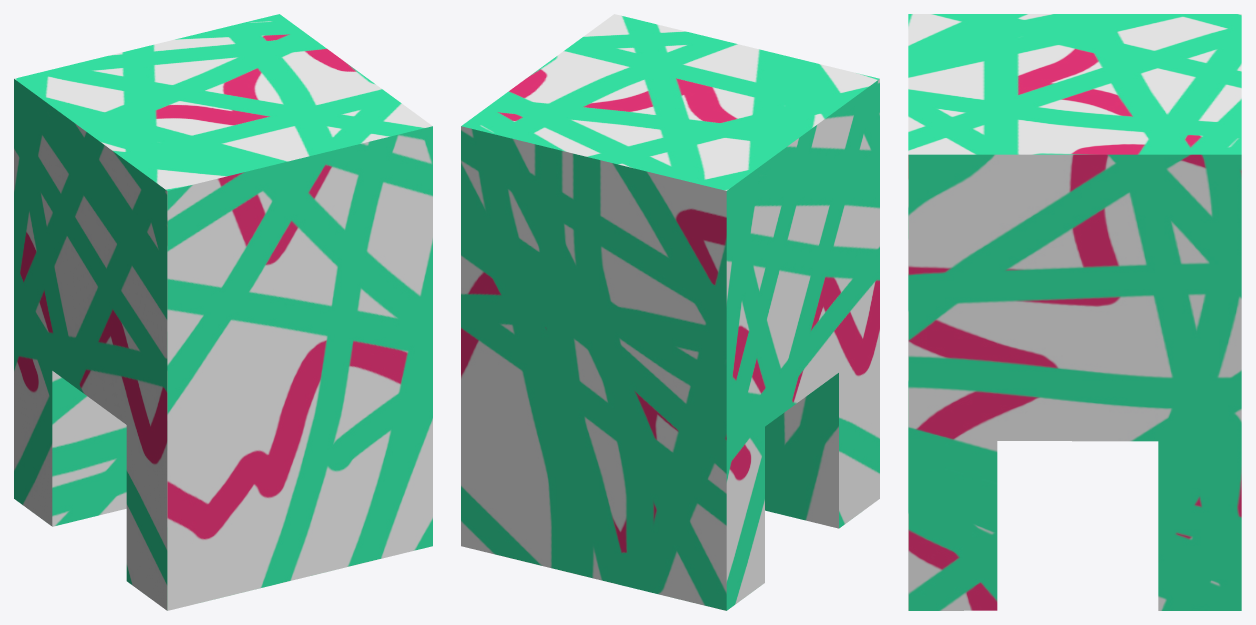
File: Test_building_model.fbx
3 views of the same model, side by side, from view 1: azimuth 30°, elevation 25°; view 2: azimuth 150°, elevation 25°; view 3: azimuth 270°, elevation 25° (orthographic). The views are drawn at different scales.
Visible parts, largest first — view 1: Cube; view 2: Cube; view 3: Cube.
Boxes of the visible parts, bbox=[...] form: Cube: bbox=[14, 14, 432, 610]; Cube: bbox=[461, 14, 879, 610]; Cube: bbox=[908, 14, 1241, 610].
Size of the model in its own units: 200 by 302 by 200.
1 material, 1 textured.
